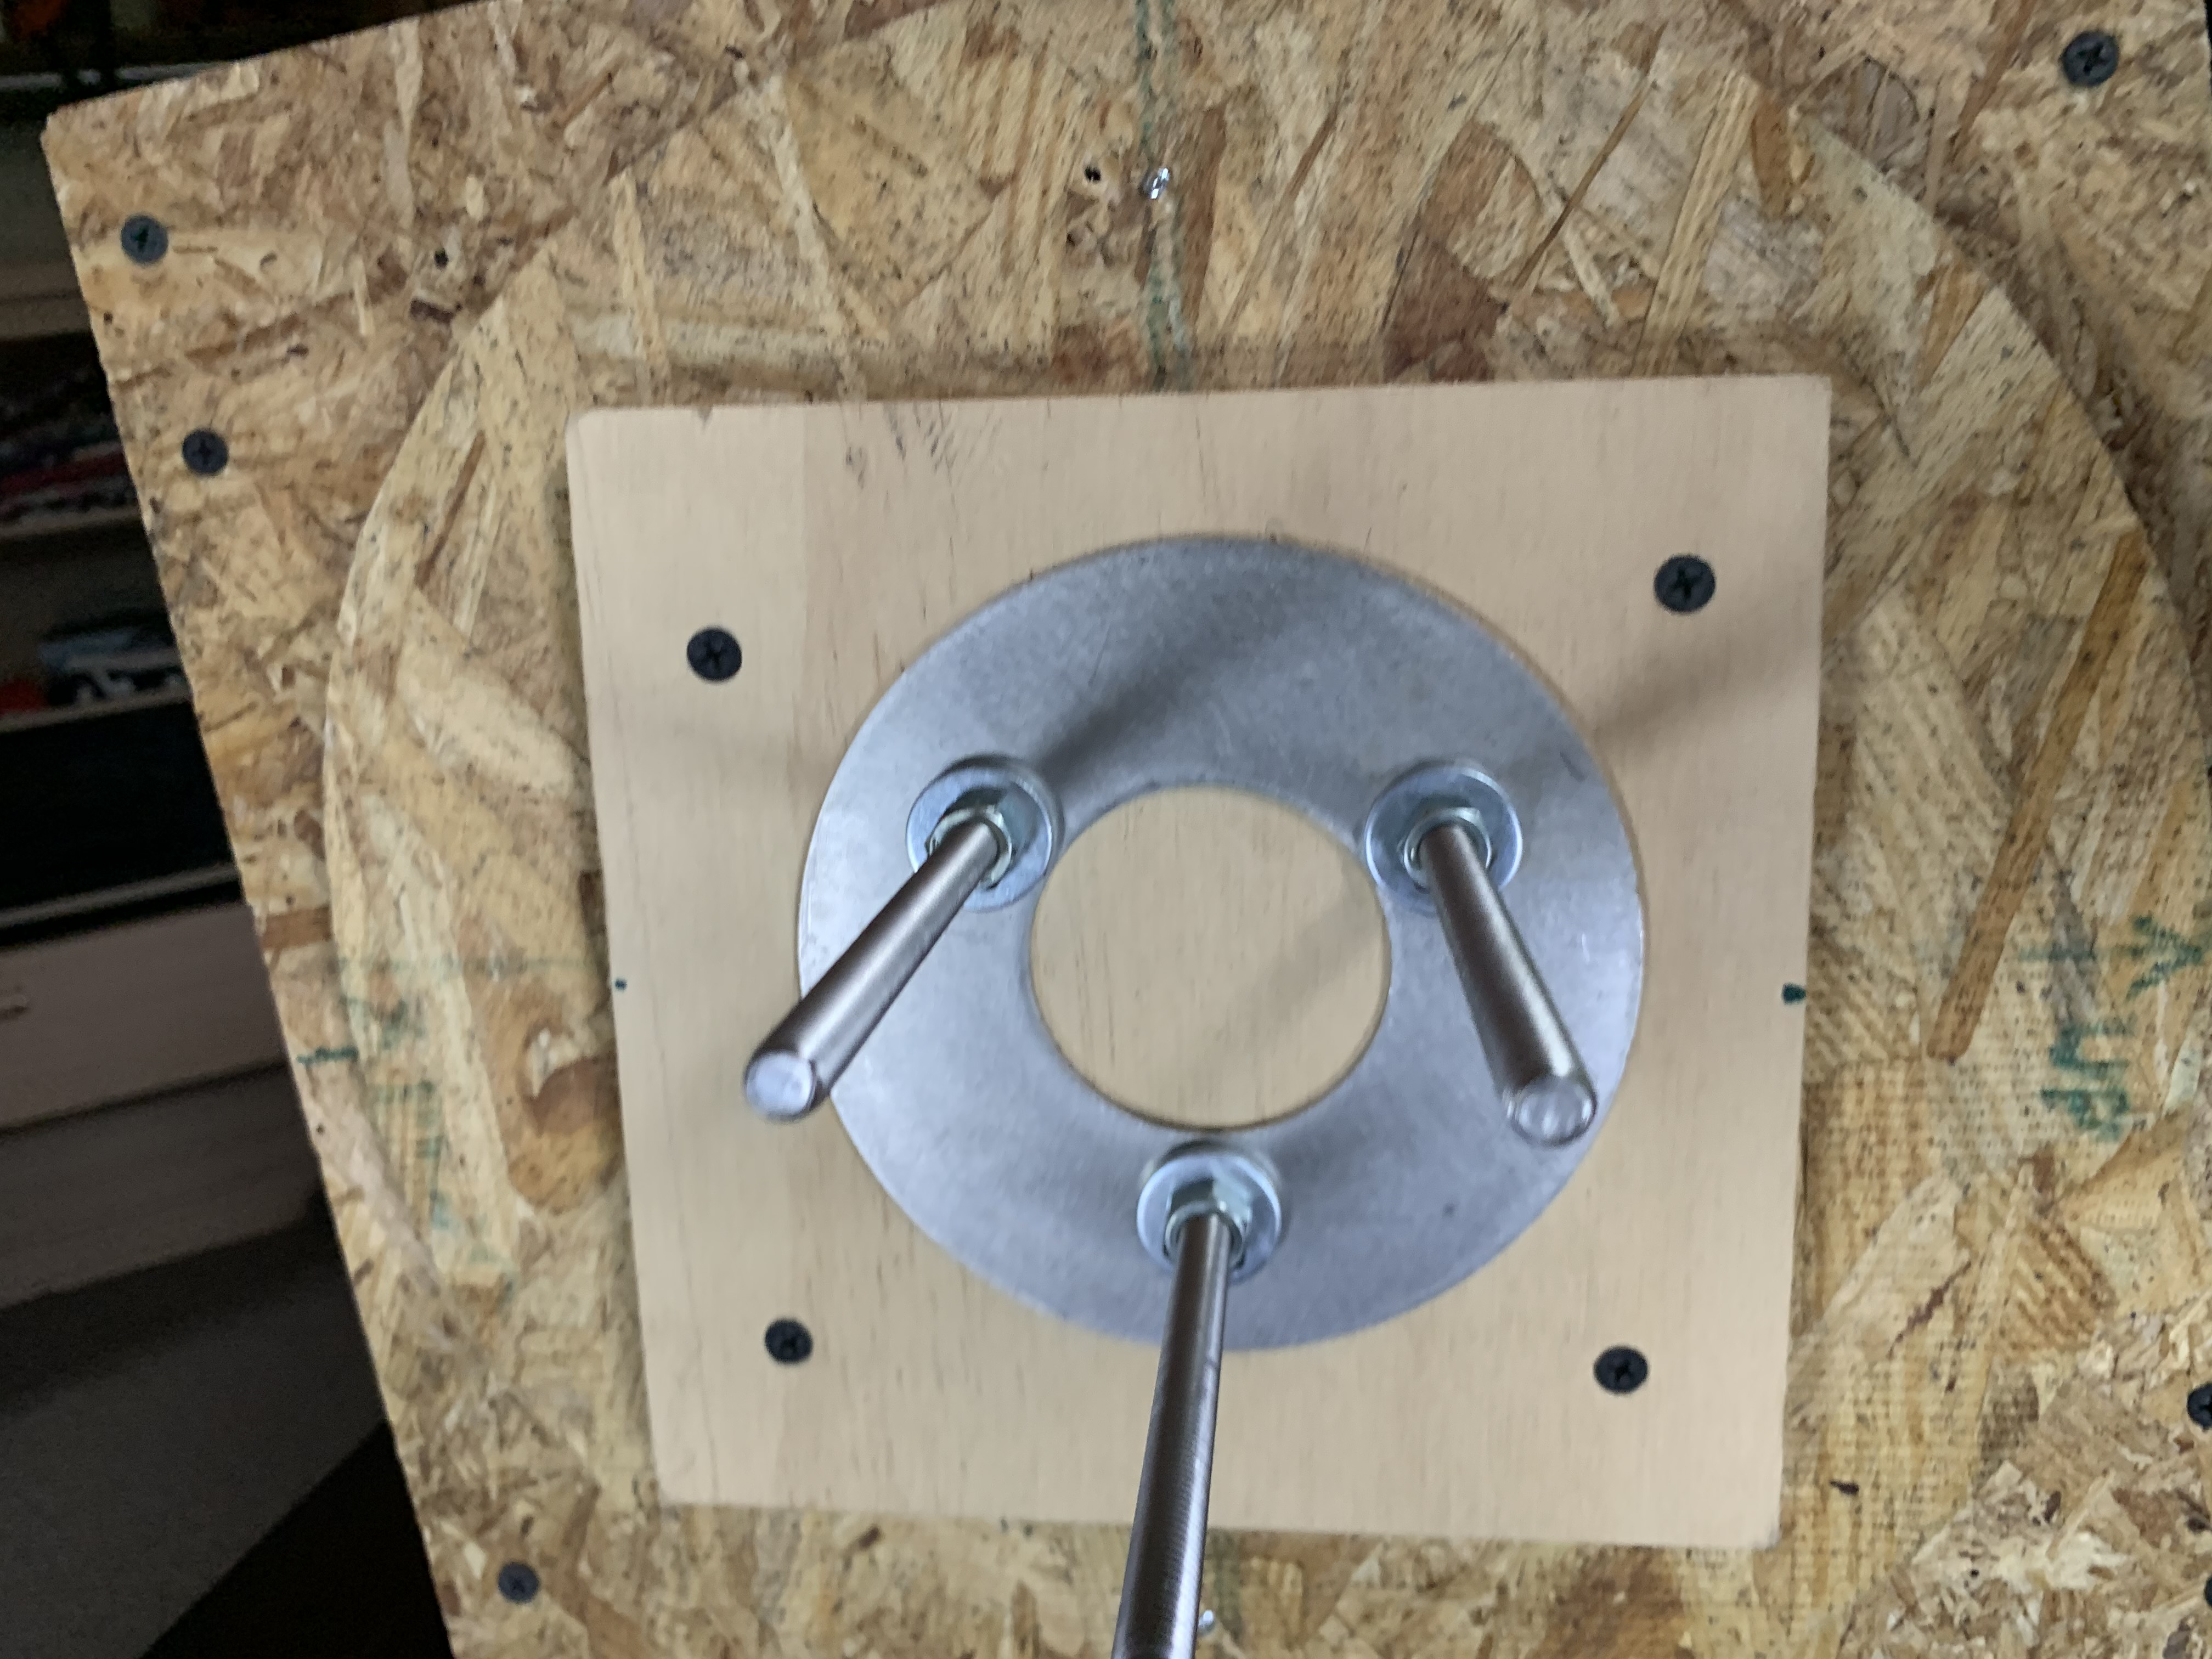bolt: (902, 753, 1066, 913), (1360, 756, 1524, 917), (1132, 1141, 1291, 1284)
